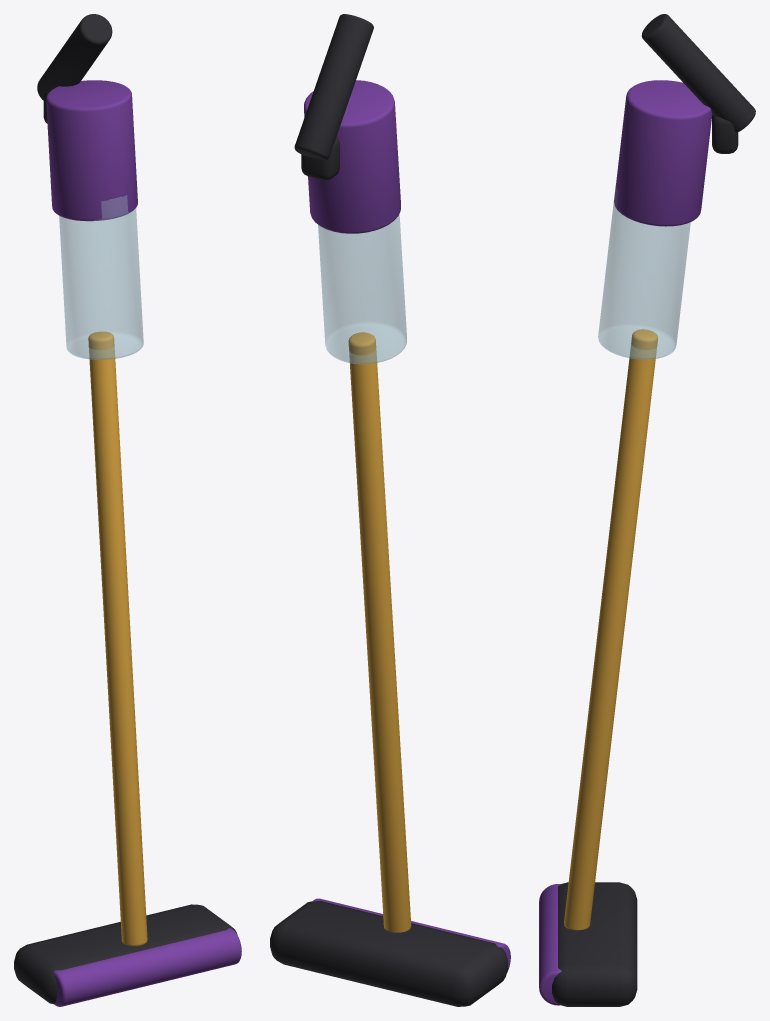
Rendered from stick_vacuum.glb.
The picture shows the model from 3 angles, left to right: view 1: azimuth 30°, elevation 25°; view 2: azimuth 150°, elevation 25°; view 3: azimuth 270°, elevation 25°; orthographic projection. The views are drawn at different scales.
Visible parts, largest first — view 1: stick_vacuum; view 2: stick_vacuum; view 3: stick_vacuum.
Part boxes in pixels (left/top/right/bottom): stick_vacuum: left=14, top=14, right=241, bottom=1006; stick_vacuum: left=270, top=14, right=510, bottom=1006; stick_vacuum: left=539, top=14, right=755, bottom=1006.
Bounding box in the file's own units: 0.26 × 1.19 × 0.247.
